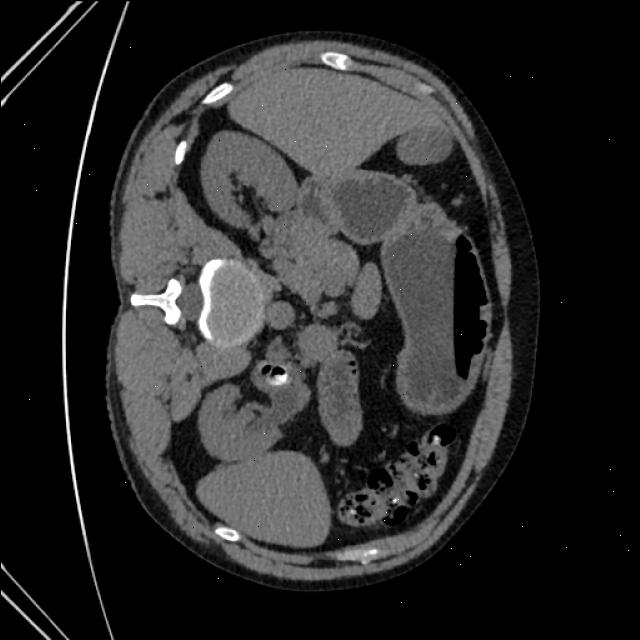kidneystone: (267, 374, 289, 386)
